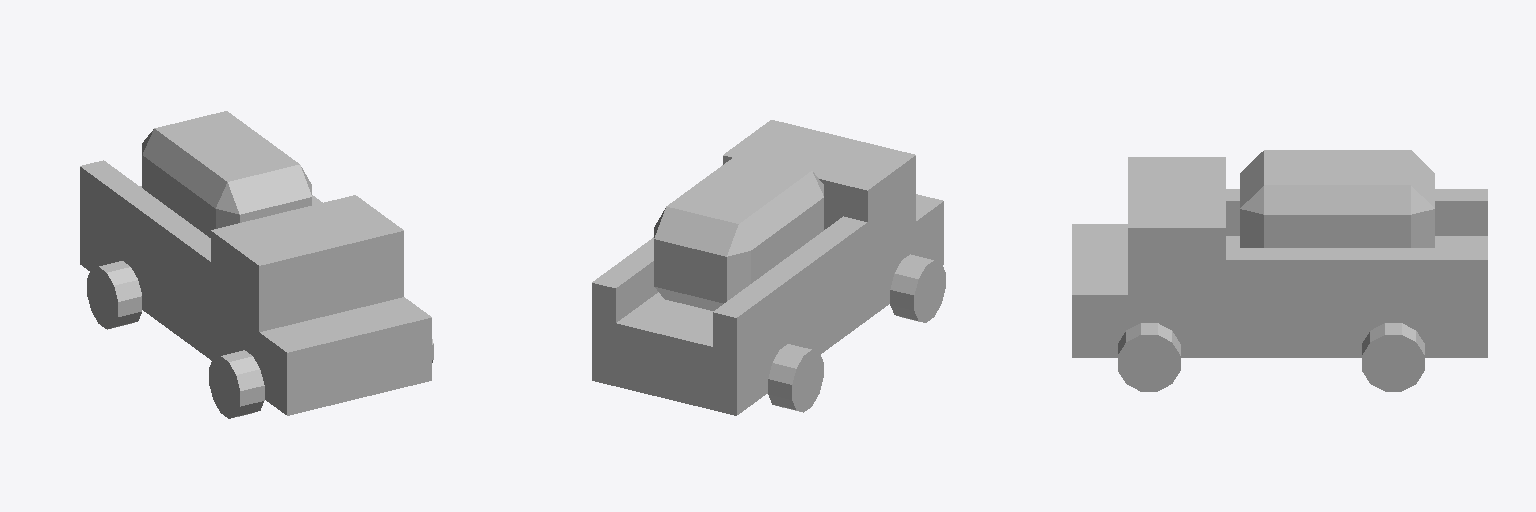
Rendered from truck.obj.
3 renders of one model, left to right at view 1: azimuth 30°, elevation 25°; view 2: azimuth 150°, elevation 25°; view 3: azimuth 270°, elevation 25°, orthographic.
Parts seen in each view (by area): view 1: cube, beveled_cuboid, cylinder; view 2: cube, beveled_cuboid, cylinder; view 3: cube, beveled_cuboid, cylinder.
Boxes of the visible parts, x1=… form: cube: x1=80, y1=160, x2=431, y2=415; beveled_cuboid: x1=142, y1=111, x2=311, y2=237; cylinder: x1=87, y1=261, x2=433, y2=418; cube: x1=592, y1=120, x2=943, y2=415; beveled_cuboid: x1=654, y1=153, x2=823, y2=310; cylinder: x1=768, y1=254, x2=945, y2=412; cube: x1=1072, y1=157, x2=1487, y2=357; beveled_cuboid: x1=1240, y1=150, x2=1434, y2=247; cylinder: x1=1118, y1=323, x2=1424, y2=391.
Size of the model in its own units: 0.4 by 0.35 by 0.7437.